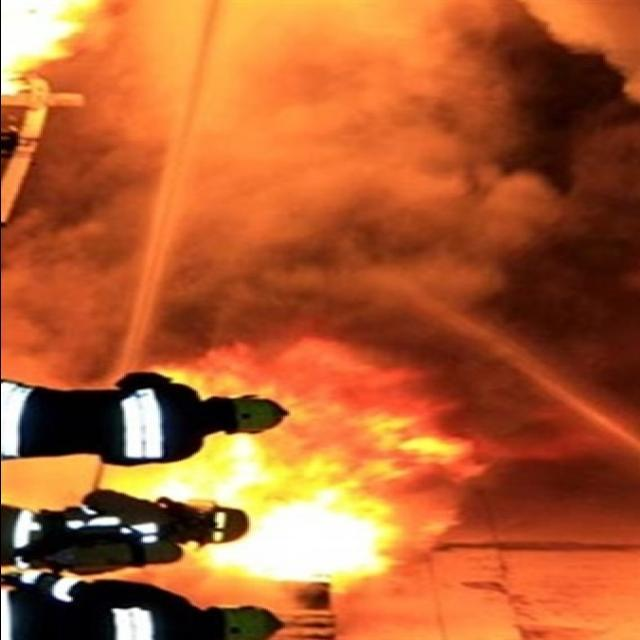Fire: (80, 362, 476, 588), (0, 0, 118, 100)
